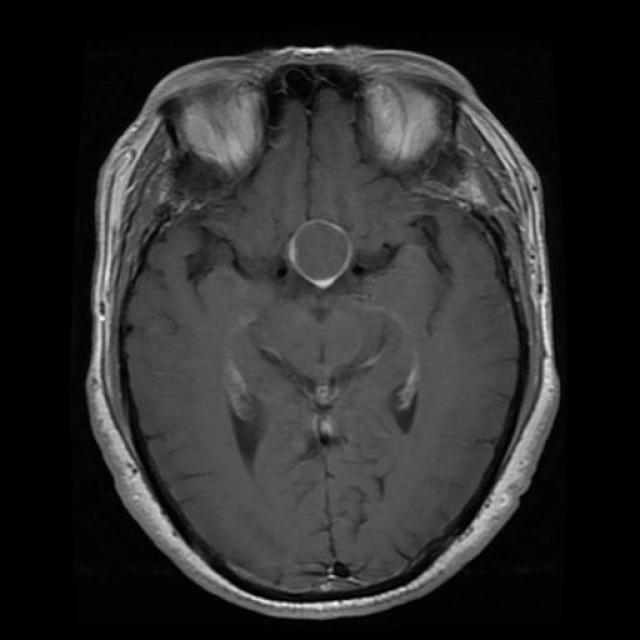pituitary: (285, 210, 372, 301)
